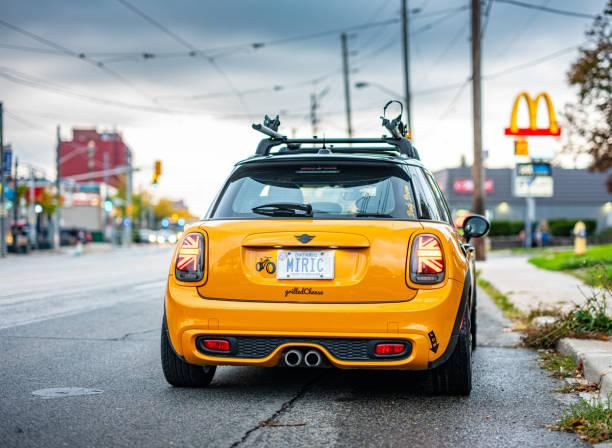licence: (272, 244, 339, 281)
